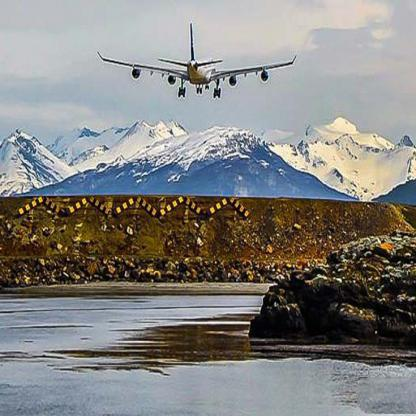CIV_Plane: (96, 19, 299, 105)
